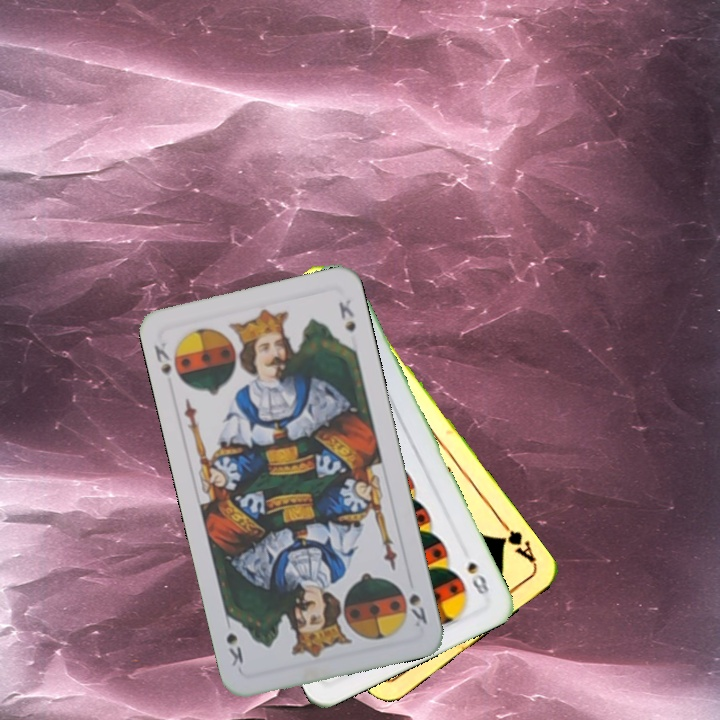GA: (495, 516, 539, 567)
S8: (463, 557, 492, 597)
SK: (150, 338, 177, 392), (405, 589, 430, 627)
